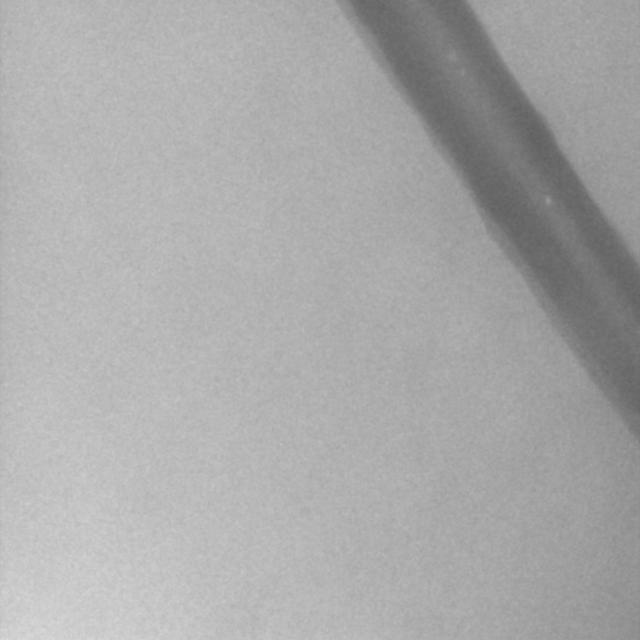air-hole: (545, 195, 556, 207), (446, 55, 457, 65), (463, 76, 466, 80)
